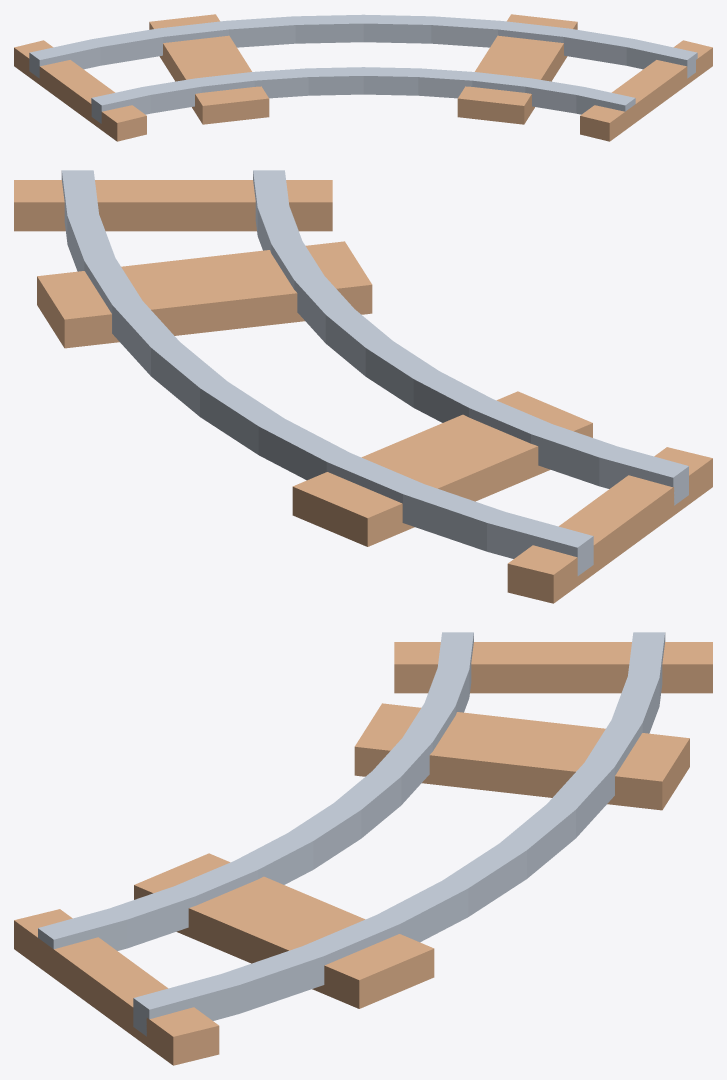
Rendered from curved_1-2-_-4.dae.
3 views of the same model, one above another, from view 1: azimuth 30°, elevation 25°; view 2: azimuth 150°, elevation 25°; view 3: azimuth 270°, elevation 25° (orthographic). The views are drawn at different scales.
Visible parts, largest first — view 1: Rails Curved, Beats Curved 01; view 2: Beats Curved 01, Rails Curved; view 3: Beats Curved 01, Rails Curved.
Boxes of the visible parts, x1,y1,x2,y2 form: Rails Curved: (29,14,697,123); Beats Curved 01: (14,14,712,141); Beats Curved 01: (14,180,712,603); Rails Curved: (61,170,688,575); Beats Curved 01: (14,642,712,1065); Rails Curved: (38,632,665,1036).
Bounding box in the file's own units: 0.8799 × 0.658 × 0.04.
